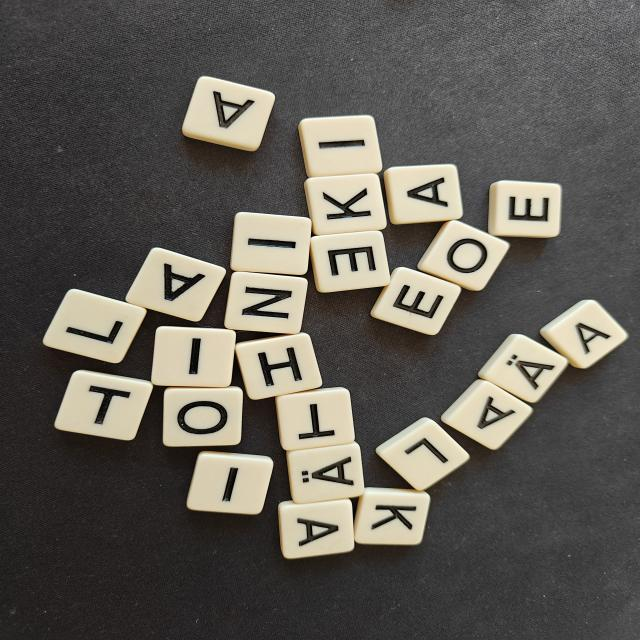a: (126, 248, 226, 321), (182, 77, 275, 151), (441, 380, 533, 450), (540, 300, 628, 368), (384, 164, 463, 225), (279, 499, 354, 559)
a_dot: (478, 334, 568, 402), (287, 442, 364, 503)
e: (370, 267, 461, 335), (310, 230, 390, 292), (488, 180, 562, 238)
h: (235, 333, 322, 400)
i: (186, 451, 273, 514), (151, 326, 235, 388), (299, 115, 382, 177), (231, 212, 311, 275)
k: (304, 173, 386, 235), (355, 488, 430, 545)
l: (43, 289, 146, 363), (376, 418, 469, 490)
n: (224, 271, 308, 334)
o: (418, 220, 509, 290), (163, 386, 243, 447)
t: (54, 370, 153, 440), (275, 387, 354, 451)
